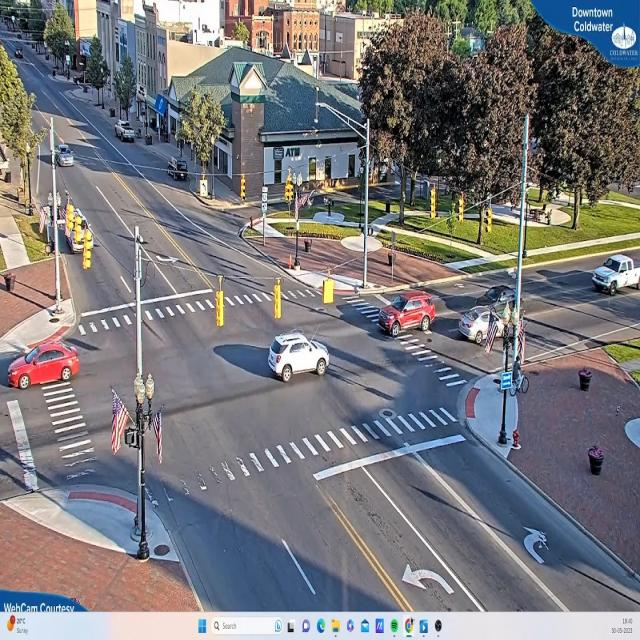car: (8, 344, 84, 392), (373, 290, 435, 340), (270, 334, 328, 380), (457, 312, 508, 351), (593, 258, 634, 294), (481, 282, 515, 313), (54, 146, 74, 168), (116, 124, 136, 142)
